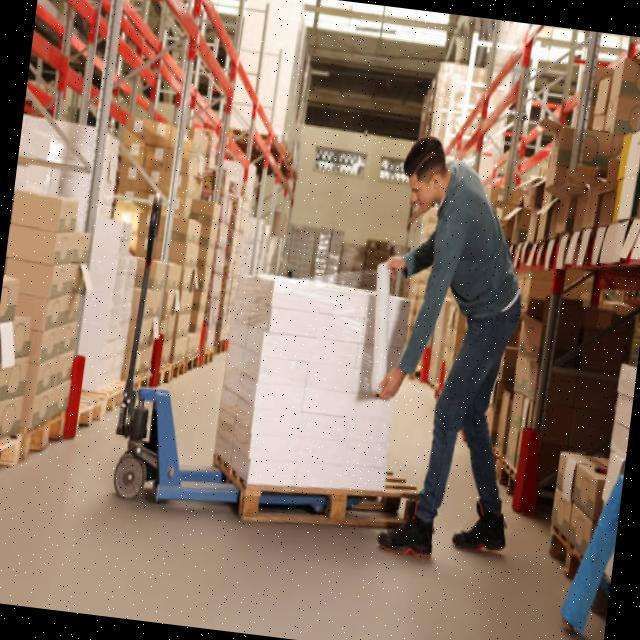Wooden-Pallets: (235, 487, 413, 527), (22, 402, 69, 468)
